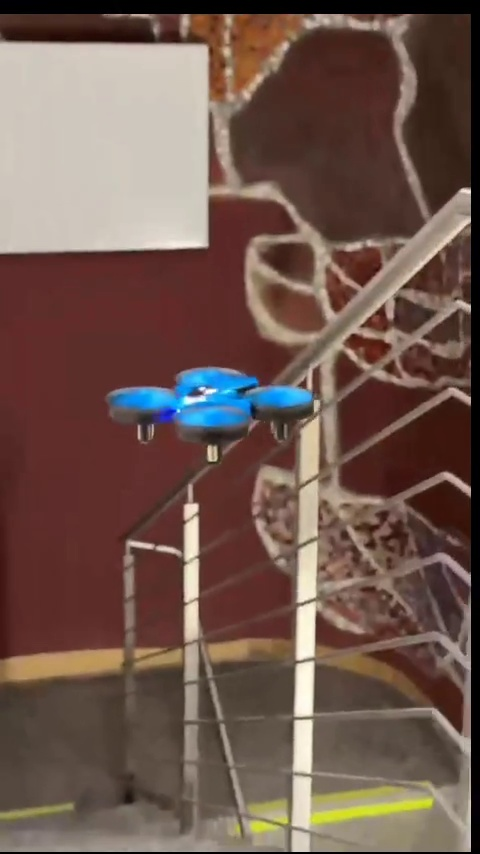drone: (114, 368, 308, 458)
